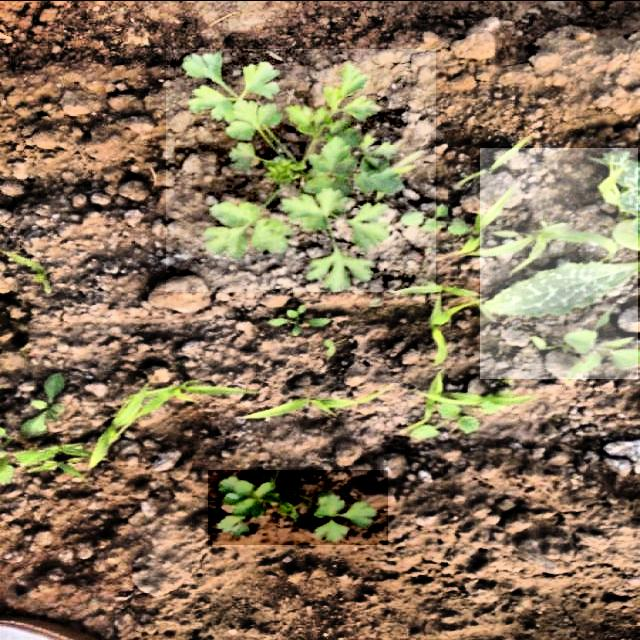Weeds: (481, 147, 638, 378)
undefined: (166, 48, 436, 291), (208, 469, 388, 544)
